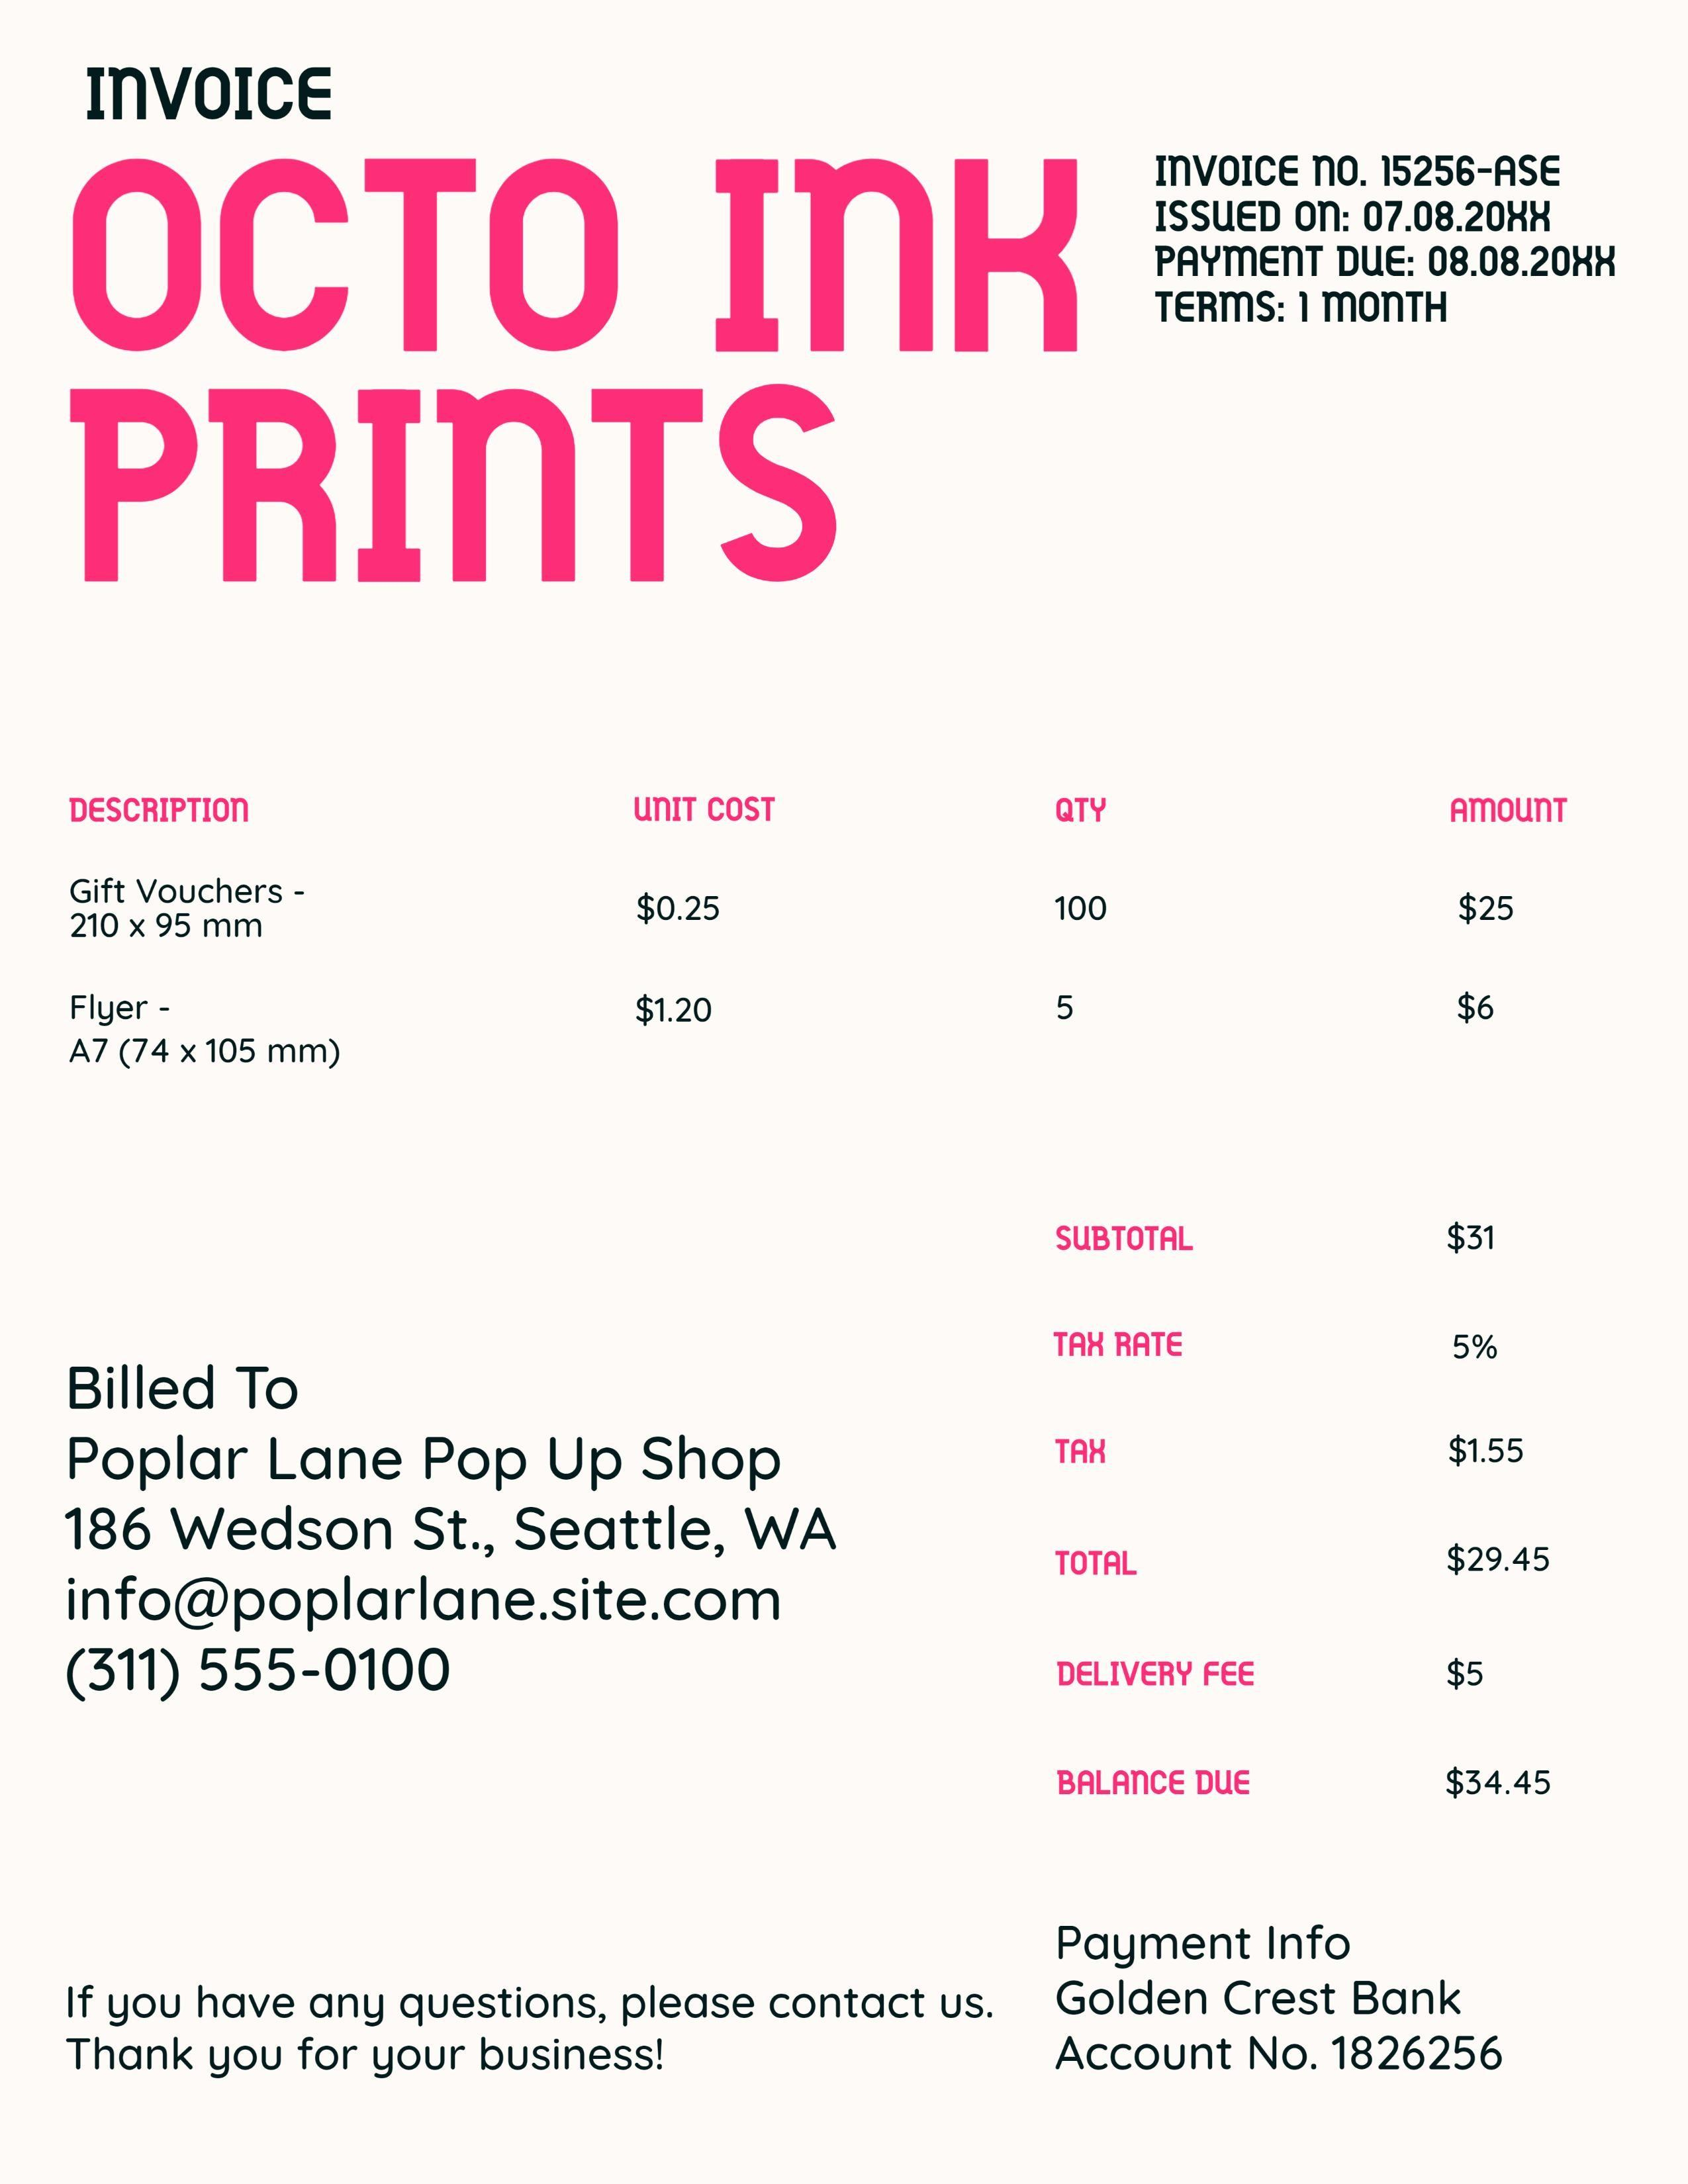ROI: (53, 126, 1096, 612), (56, 781, 1595, 1079), (1049, 1211, 1562, 1803), (50, 1347, 854, 1707), (1142, 142, 1638, 334), (1043, 1916, 1516, 2081)
